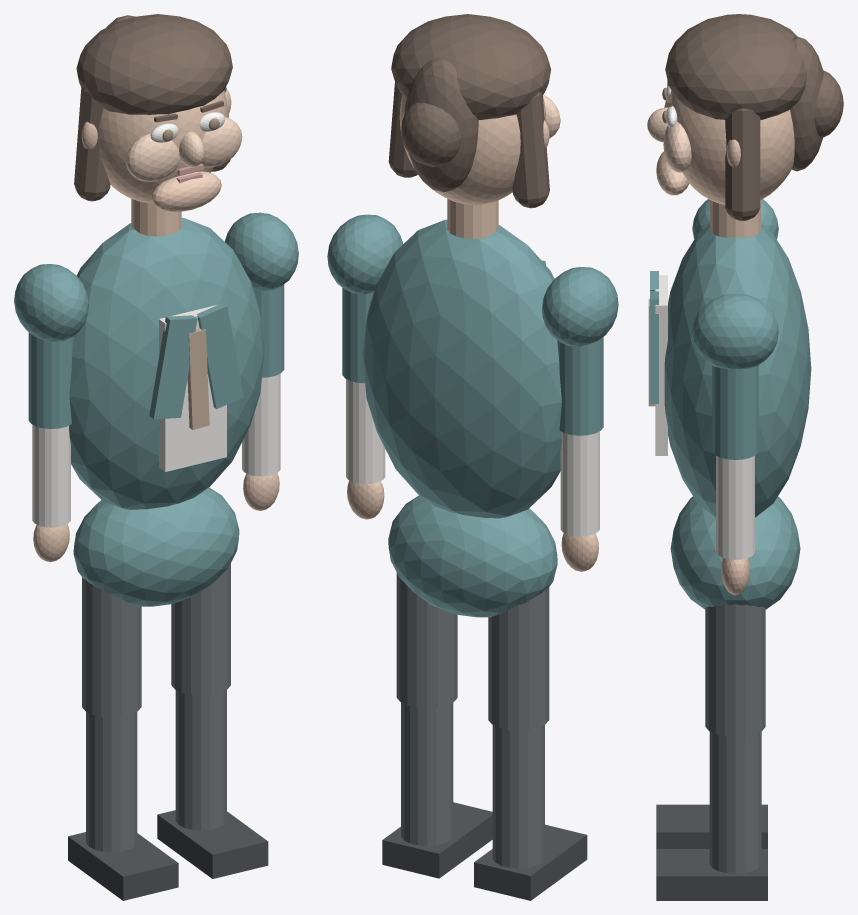
File: harper.glb
The picture shows the model from 3 angles, left to right: view 1: azimuth 30°, elevation 25°; view 2: azimuth 150°, elevation 25°; view 3: azimuth 270°, elevation 25°; orthographic projection. The views are drawn at different scales.
Parts seen in each view (by area): view 1: torso_mesh, pelvis_mesh, hair_top, thigh_left, shin_left, shin_right, thigh_right, head_mesh, shoe_right, shoulder_l, shoe_left, shoulder_r (+16 smaller); view 2: torso_mesh, pelvis_mesh, hair_top, thigh_left, shin_left, shin_right, thigh_right, shoulder_l, hair_back, head_mesh, shoulder_r, shoe_left (+11 smaller); view 3: torso_mesh, hair_top, pelvis_mesh, thigh_right, shin_right, head_mesh, shoulder_r, shoe_right, upper_arm_right, forearm_right, hair_side_r, shoe_left (+10 smaller).
Boxes of the visible parts, x1,y1,x2,y2 form: torso_mesh: (69,217,264,509); pelvis_mesh: (73,487,239,606); hair_top: (76,14,232,114); thigh_left: (82,577,141,717); shin_left: (86,711,137,852); shin_right: (175,690,226,830); thigh_right: (171,563,230,695); head_mesh: (98,90,227,203); shoe_right: (157,810,268,878); shoulder_l: (14,264,88,341); shoe_left: (68,832,178,900); shoulder_r: (224,212,298,290); torso_mesh: (362,219,562,518); pelvis_mesh: (388,495,557,617); hair_top: (391,14,550,120); thigh_left: (488,587,549,730); shin_left: (492,725,544,868); shin_right: (401,702,453,846); thigh_right: (396,573,457,708); shoulder_l: (542,267,618,346); hair_back: (404,58,478,192); head_mesh: (399,94,546,204); shoulder_r: (327,214,402,294); shoe_left: (474,824,587,900); torso_mesh: (664,225,811,517); hair_top: (665,14,807,119); pelvis_mesh: (670,496,800,609); thigh_right: (705,604,765,737); shin_right: (709,731,761,873); head_mesh: (668,91,794,204); shoulder_r: (692,293,778,369); shoe_right: (656,849,767,900); upper_arm_right: (712,365,758,459); forearm_right: (716,455,754,559); hair_side_r: (725,108,760,220); shoe_left: (656,804,767,848).
Size of the model in its own units: 0.88 by 2.57 by 0.545.
